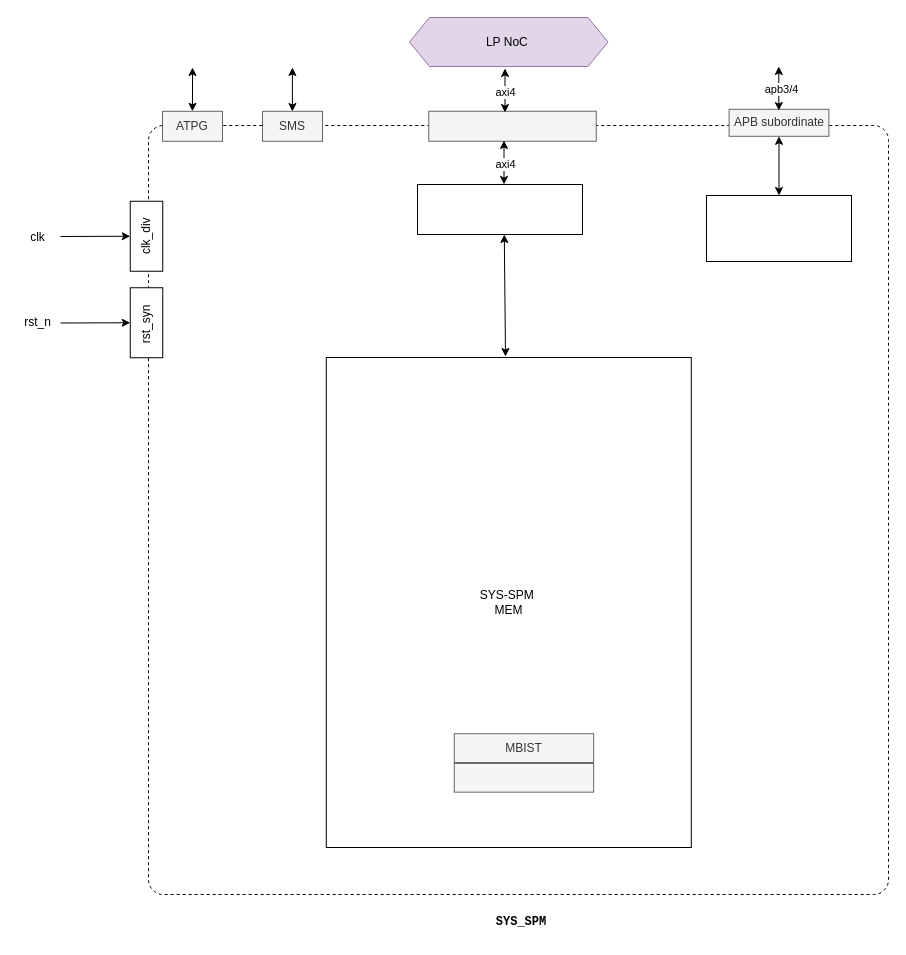
The diagram is 906 pixels wide and 955 high, and some of its shapes have lost their labels. The shapes that lost their labels are listed below. From the top down, each one's centre as x and y in pixels, then its label:
point (512, 125): 64b/36b AXI Subordinate
point (499, 209): AXI2REG
point (779, 228): CSR
point (523, 777): Memory Repair
